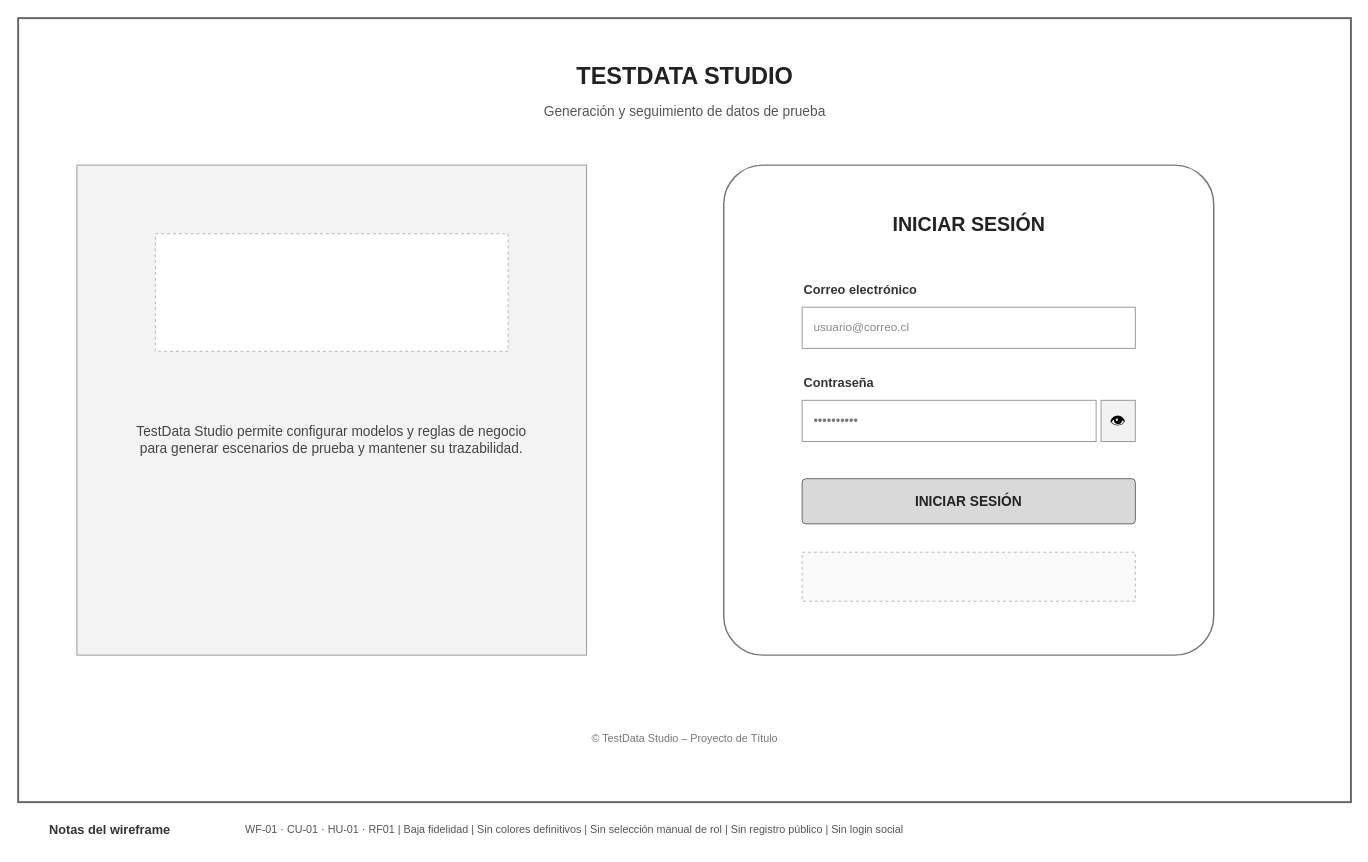
Some shapes in this 1368 by 862 pixel diagram are drawn without their labels. Each missing label, with the centre of its shape:
Área de mensaje / validación Ej.: credenciales inválidas o cuenta inactiva.: pixel 968 576
ÁREA VISUAL / PRESENTACIÓN: pixel 331 292
